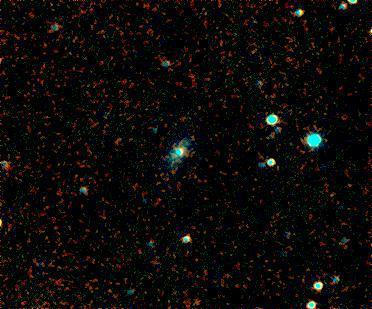star: (0, 206, 20, 236)
